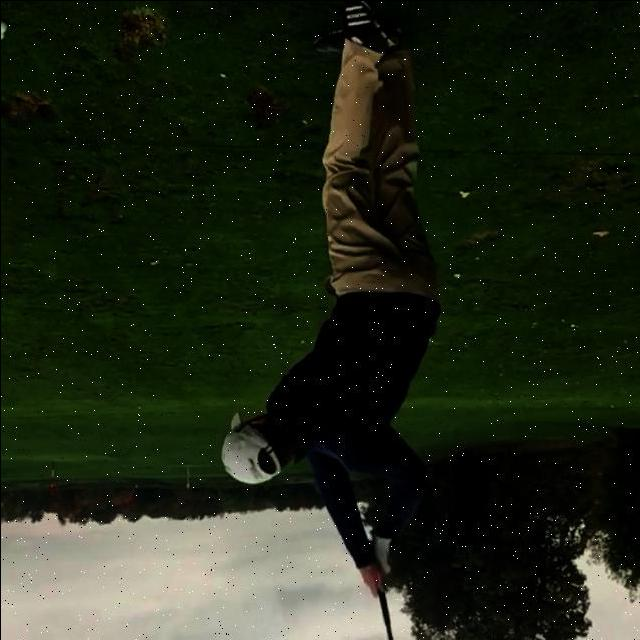golf club-handle: (365, 543, 401, 640)
